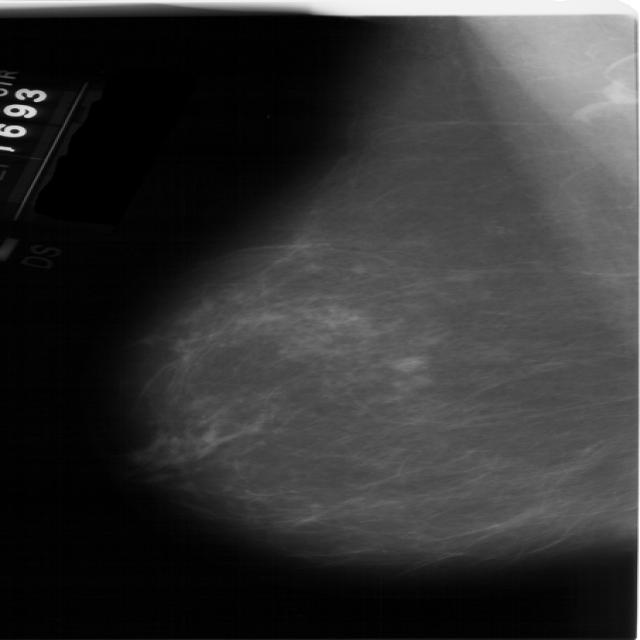tumour: (389, 354, 425, 372)
